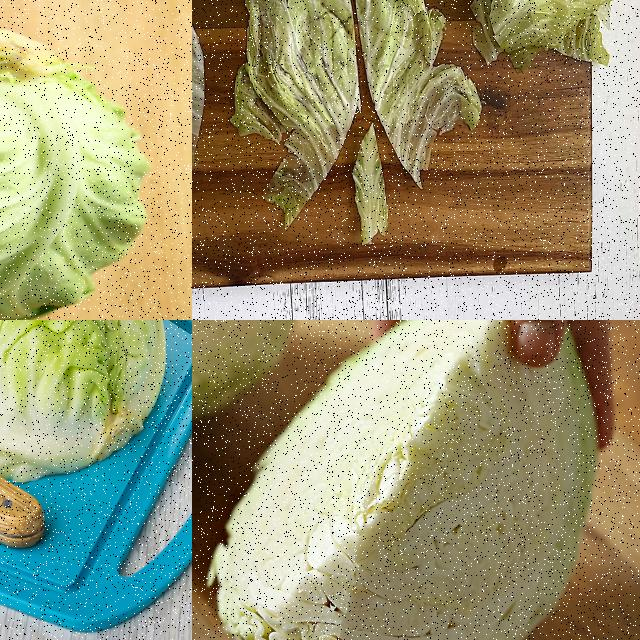cabbage: (210, 320, 619, 639), (0, 0, 156, 319), (0, 320, 168, 485)
